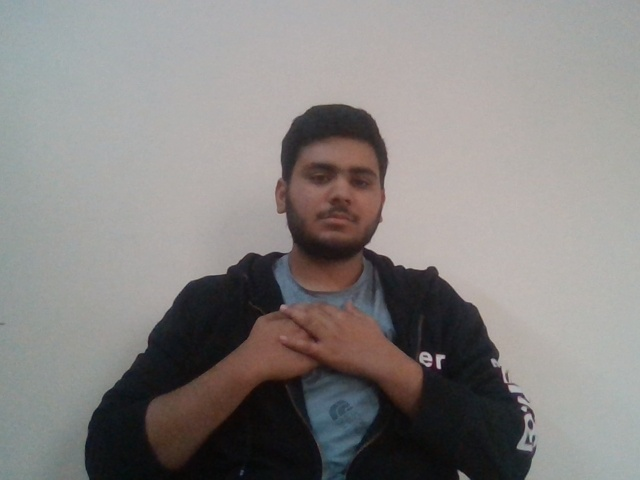Please: (228, 291, 391, 371)
